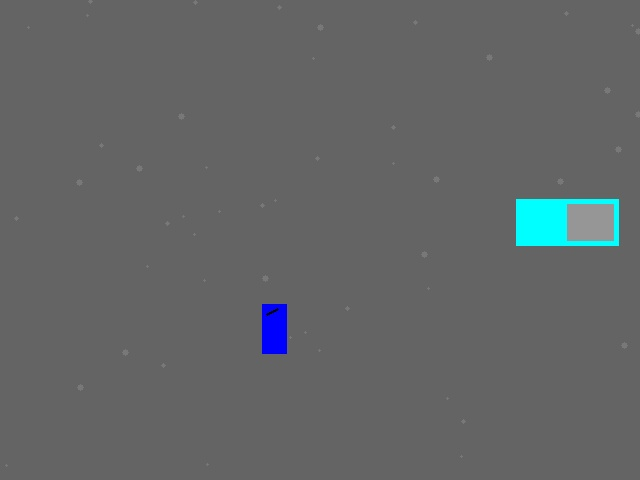motorcycle: (262, 304, 286, 353)
truck: (516, 199, 618, 245)
